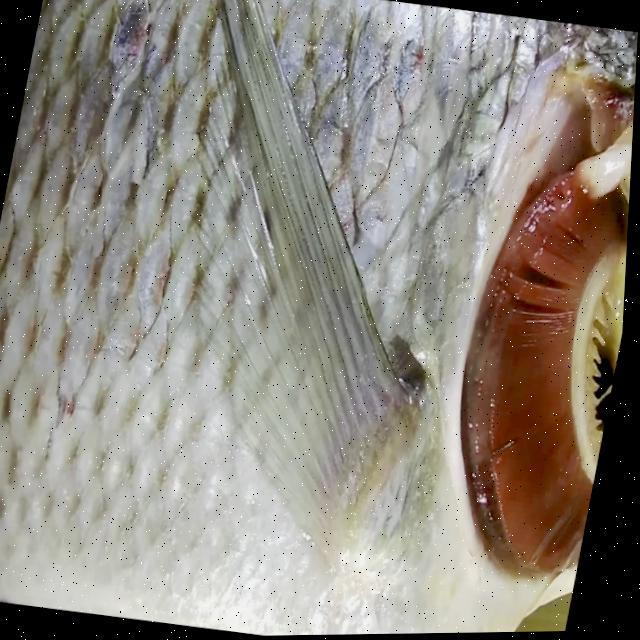Fresh: (0, 0, 508, 640), (415, 92, 636, 635)
